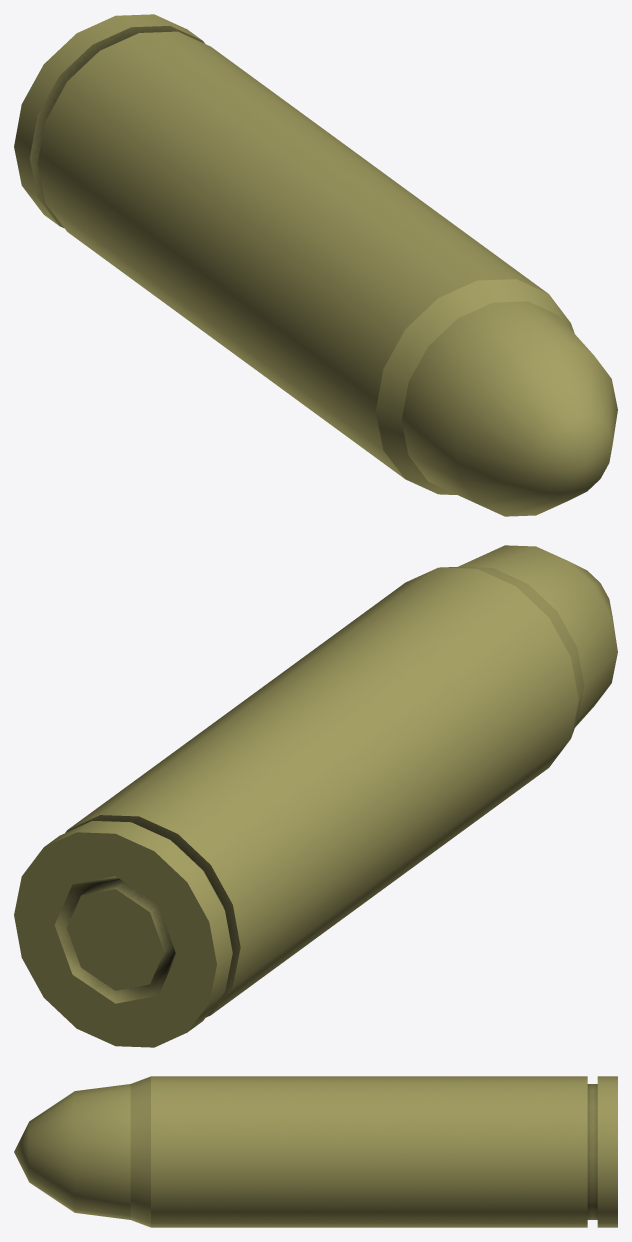
Rendered from tommy_gun_bullet.fbx.
3 renders of one model, top to bottom at view 1: azimuth 30°, elevation 25°; view 2: azimuth 150°, elevation 25°; view 3: azimuth 270°, elevation 25°, orthographic. The views are drawn at different scales.
Parts seen in each view (by area): view 1: tommy_gun_bullet_shell, tommy_gun_bullet; view 2: tommy_gun_bullet_shell, tommy_gun_bullet; view 3: tommy_gun_bullet_shell, tommy_gun_bullet.
Boxes of the visible parts, x1,y1,x2,y2 form: tommy_gun_bullet_shell: (14,14,574,494); tommy_gun_bullet: (401,301,617,516); tommy_gun_bullet_shell: (14,566,584,1047); tommy_gun_bullet: (458,545,617,727); tommy_gun_bullet_shell: (130,1076,617,1227); tommy_gun_bullet: (14,1084,130,1219).
Size of the model in its own units: 1.12 by 1.12 by 4.46.
